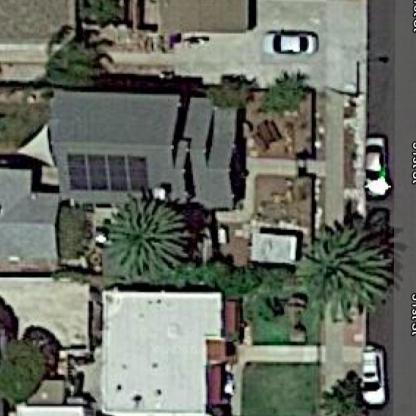car: (349, 336, 389, 413), (355, 128, 392, 204), (262, 24, 323, 60)
solar_panel: (64, 145, 155, 201)
